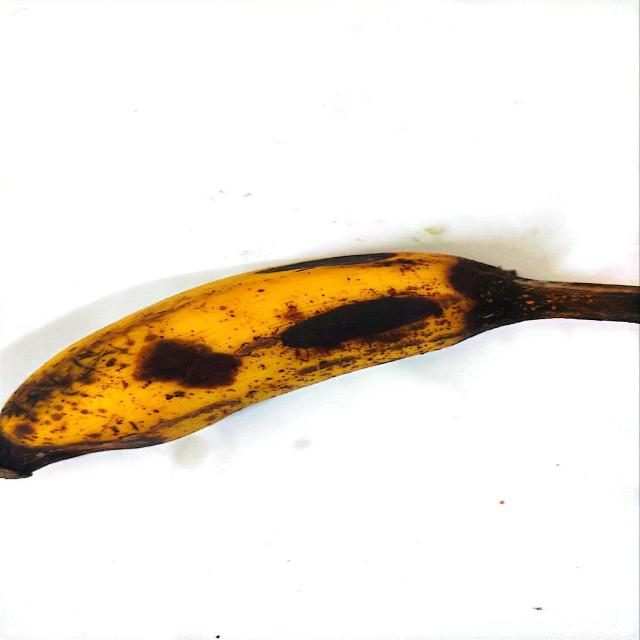rotten_banana: (3, 252, 638, 478)
